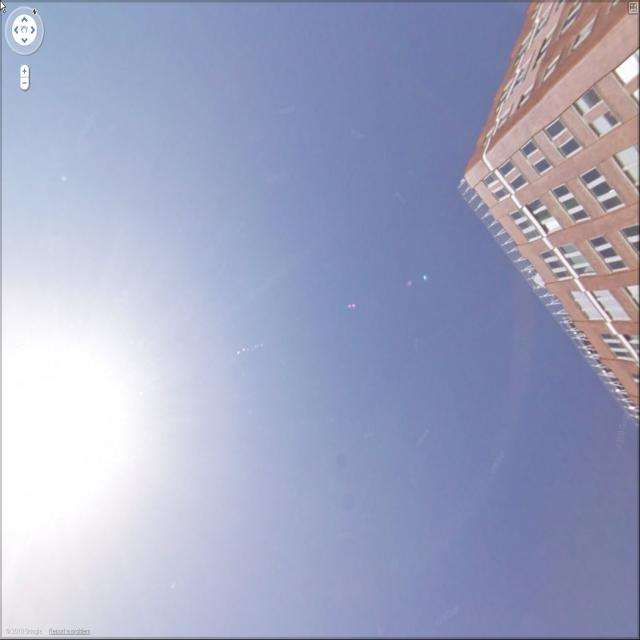b_1: (455, 1, 640, 424)
